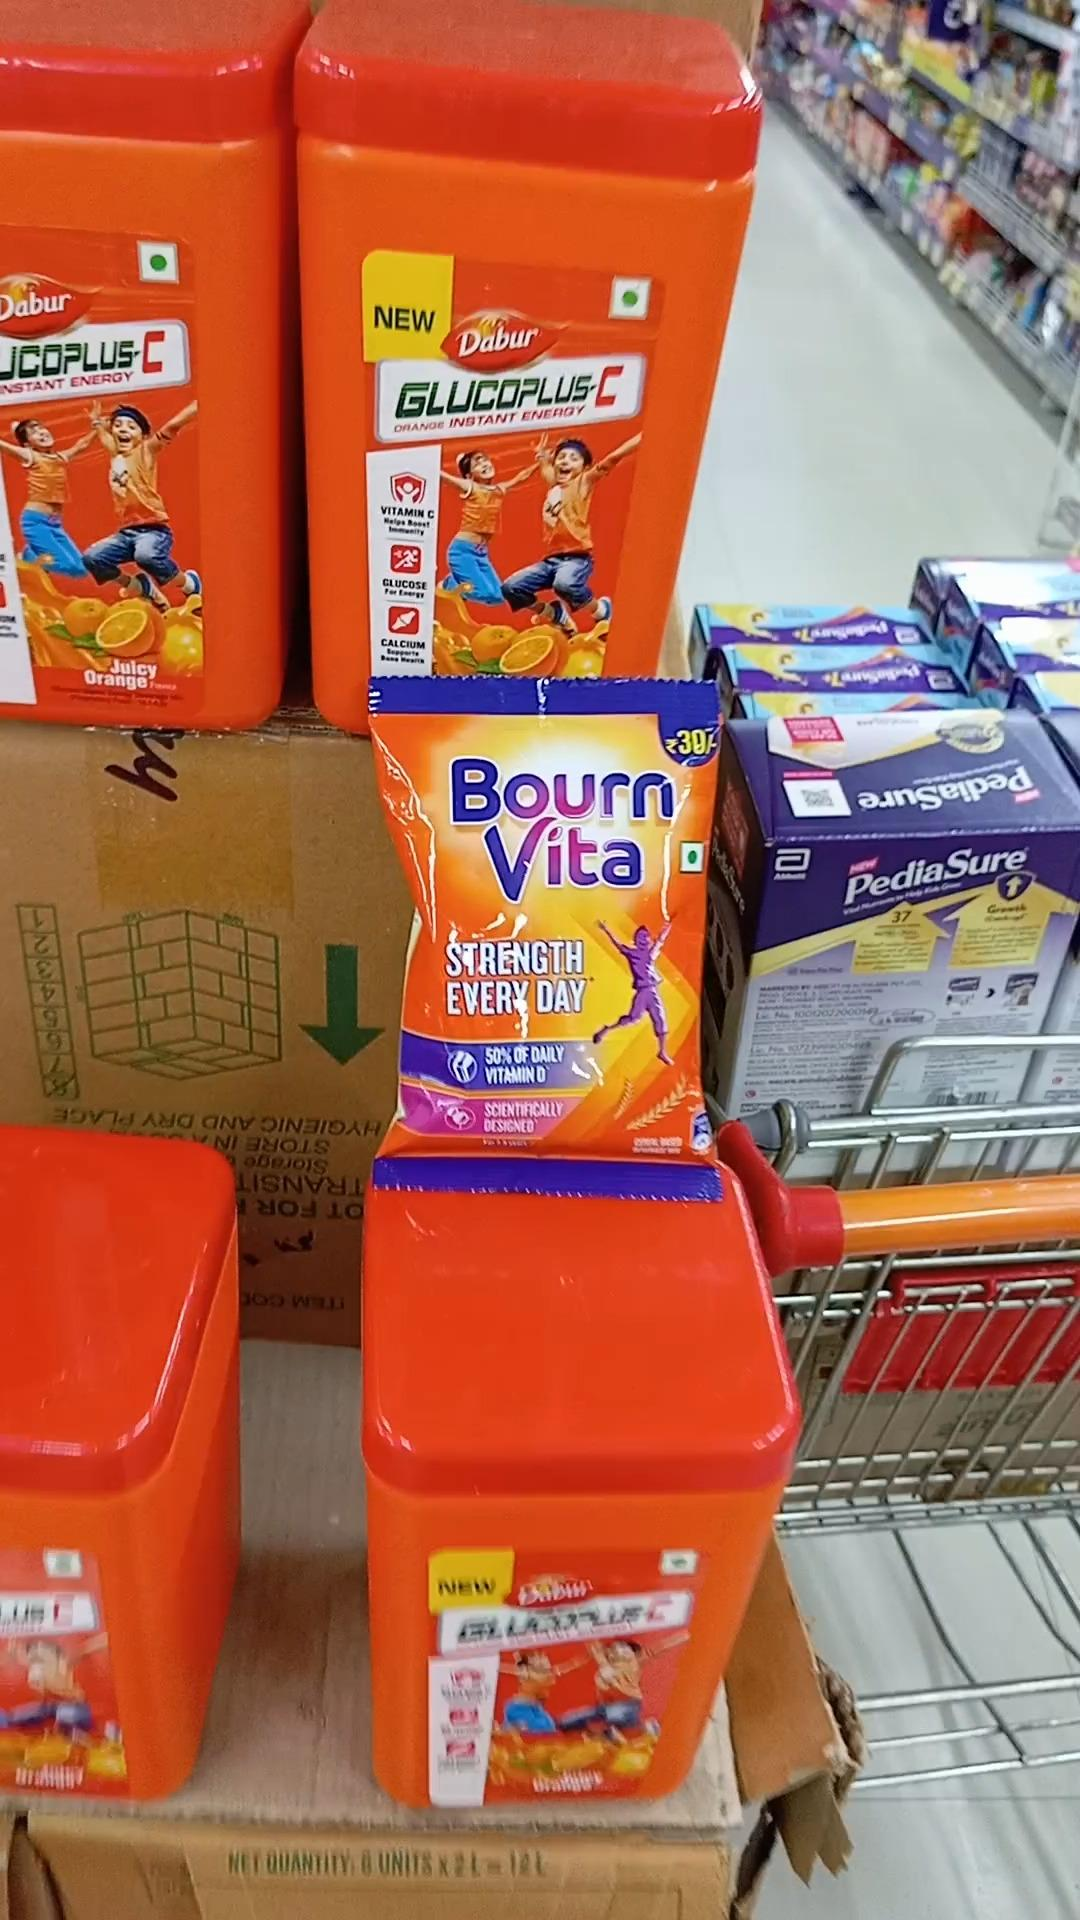BOURN_VITA_75_G_POUCH: (382, 671, 704, 1199)
